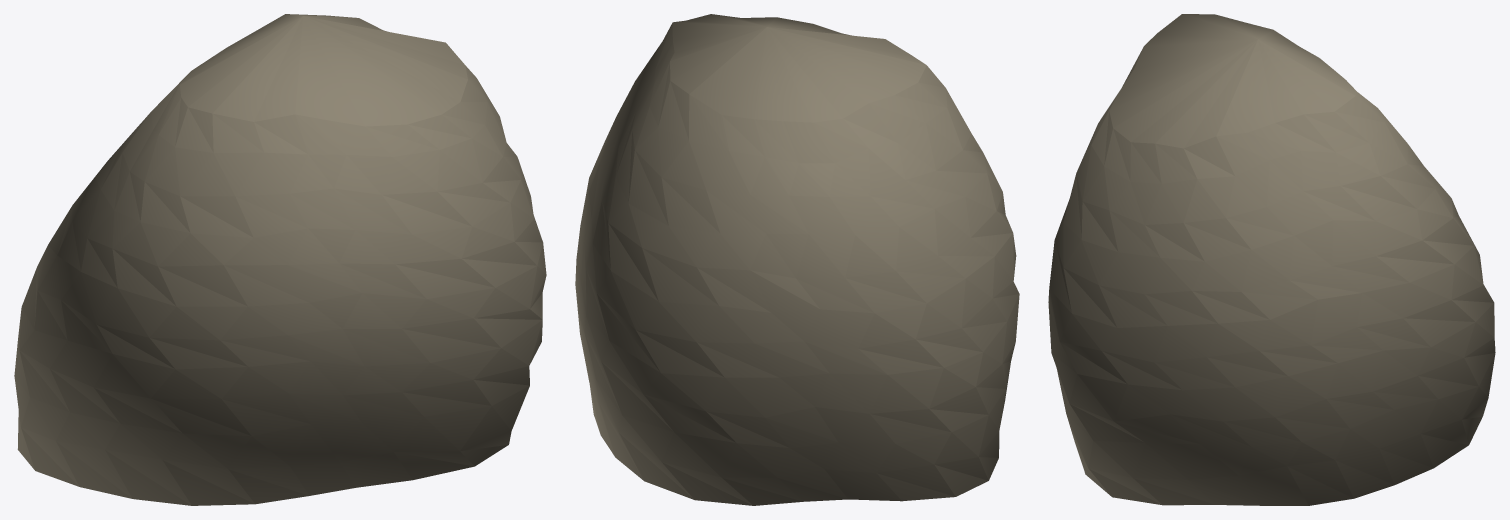
The model's file is boulder-v1.glb.
3 renders of one model, left to right at view 1: azimuth 30°, elevation 25°; view 2: azimuth 150°, elevation 25°; view 3: azimuth 270°, elevation 25°, orthographic. The views are drawn at different scales.
Visible parts, largest first — view 1: boulder-v1; view 2: boulder-v1; view 3: boulder-v1.
Part boxes in pixels (<box>): boulder-v1: <box>14,14,546,505</box>; boulder-v1: <box>575,14,1019,505</box>; boulder-v1: <box>1048,14,1495,505</box>.
Size of the model in its own units: 3.2 by 2.8 by 2.87.
